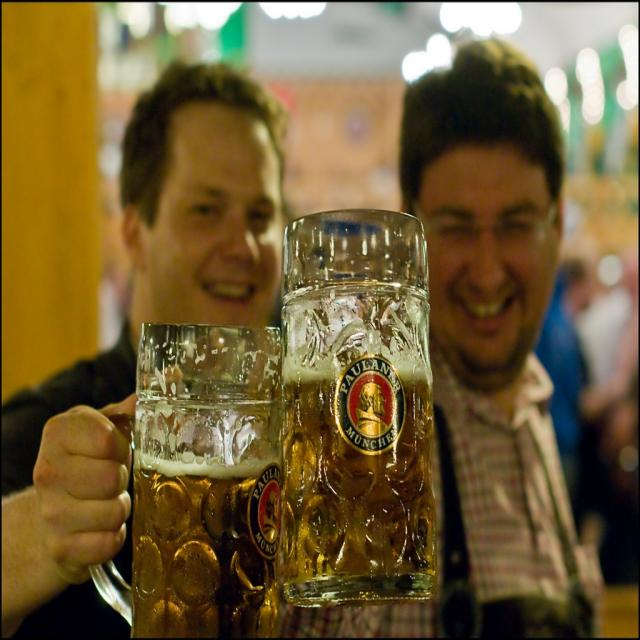paulaner: (334, 356, 407, 455), (249, 466, 283, 559)
